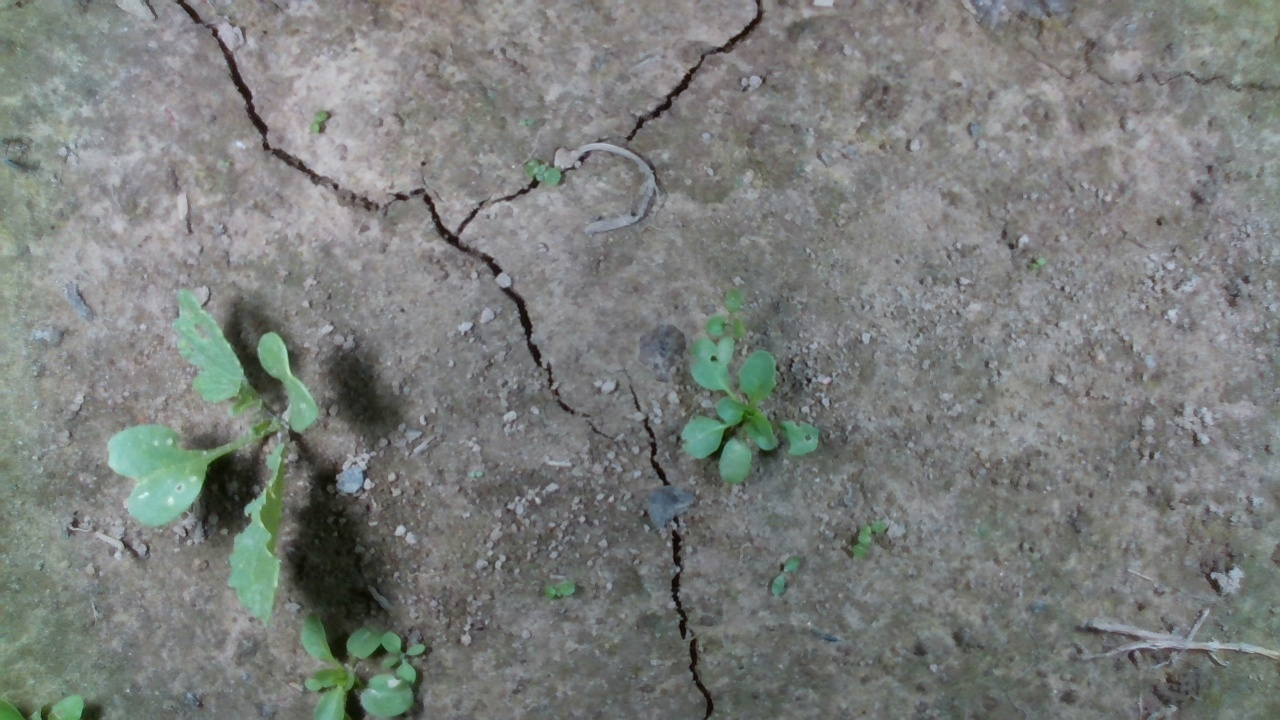weed: (770, 554, 802, 599), (522, 156, 563, 187), (538, 578, 576, 602), (306, 107, 331, 136)
